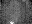person: (11, 19, 16, 23)
